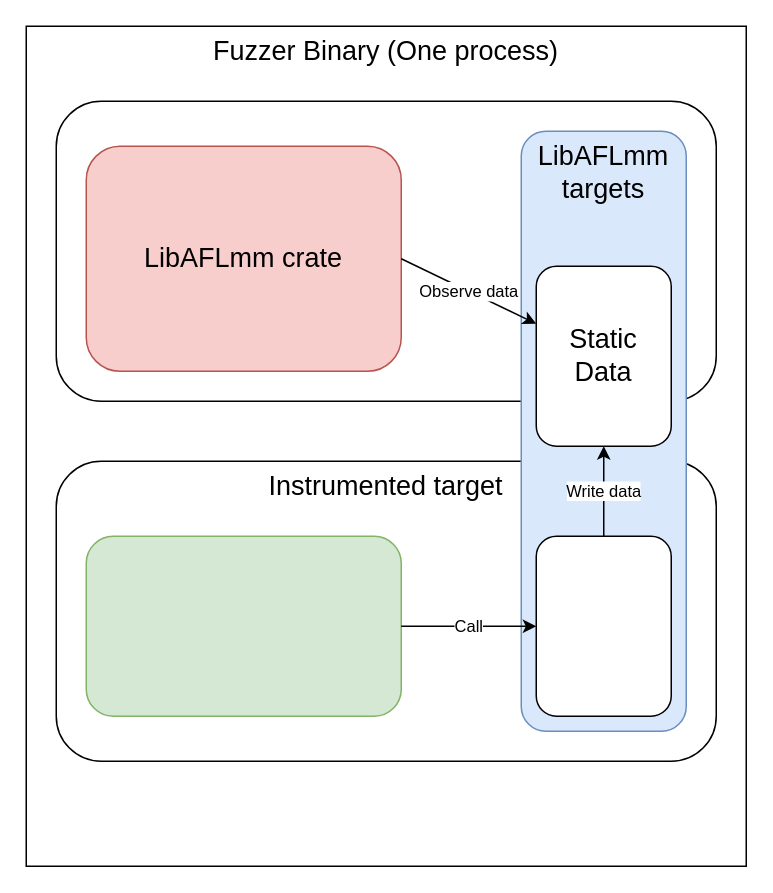
Some shapes in this 773 by 893 pixel diagram are drawn without their labels. Here are the shapes that lost their labels. From the top down, the box of each, then its label:
(55, 100, 716, 401): Fuzzer Runtime
(85, 535, 401, 716): Instrumented code
(535, 535, 671, 716): Runtime Callbacks
